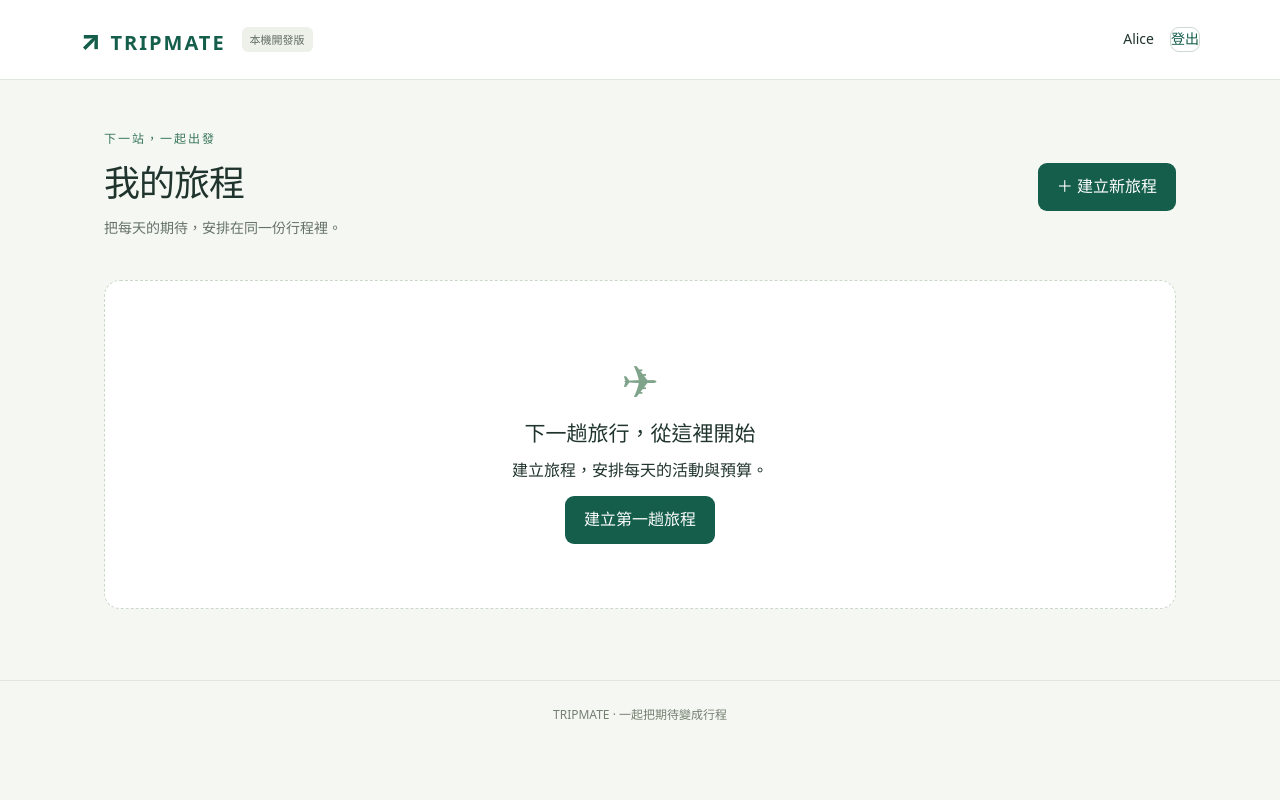
Phase 1 connected UI › clears the previous user query cache when switching accounts
Expected: the text "Alice" is shown, [1123, 28, 1154, 51]
Click the button "登出". click: (1185, 40)
box: [1170, 27, 1200, 52]
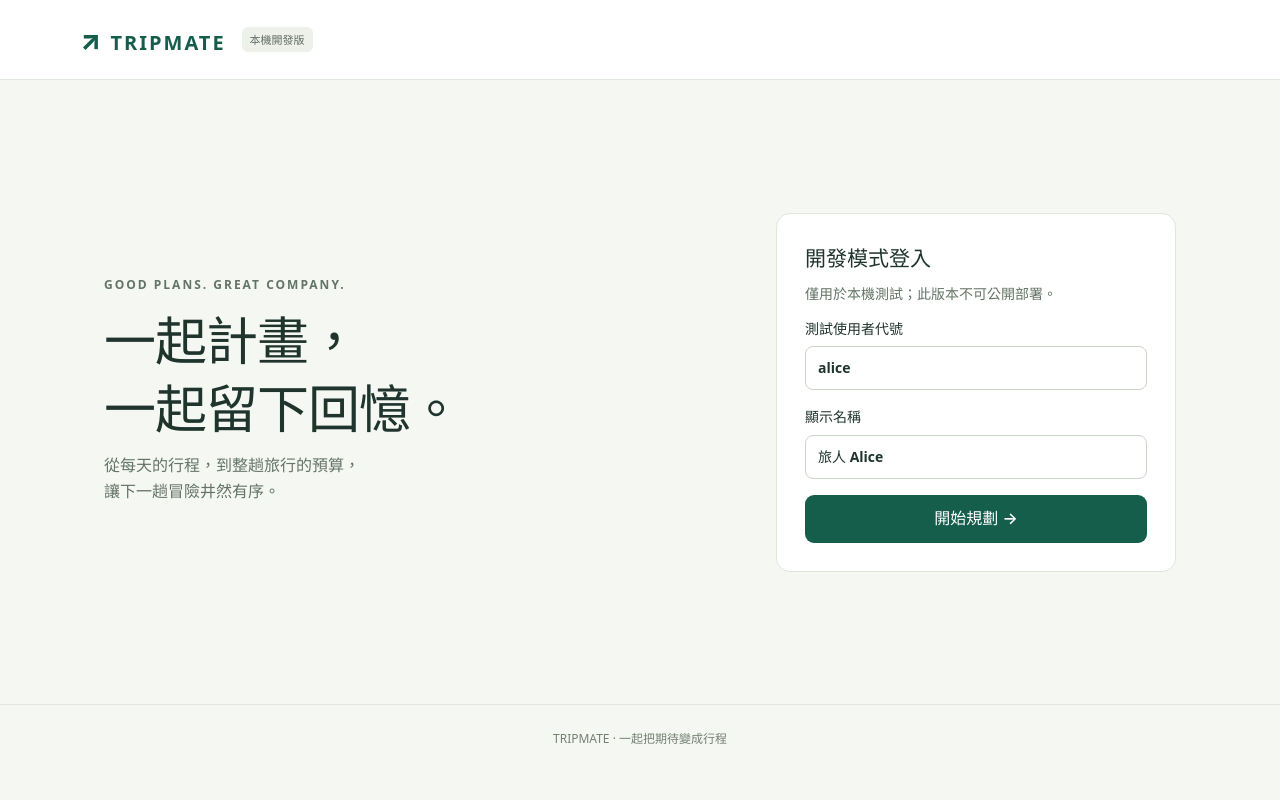
Expected: the button "開始規劃 →" is shown
Click the button "開始規劃 →". click: (976, 519)
box: [805, 495, 1147, 543]
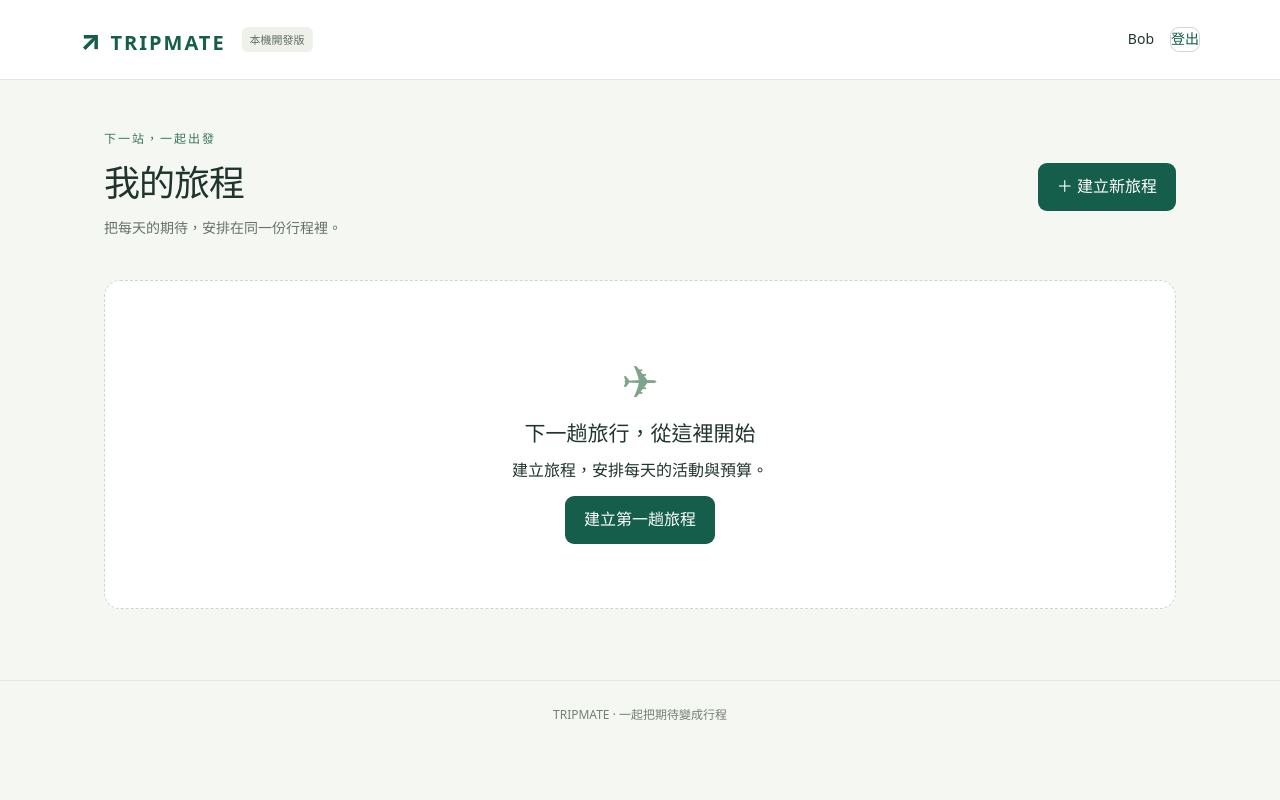
Expected: the text "Bob" is shown, [1128, 28, 1154, 51]
